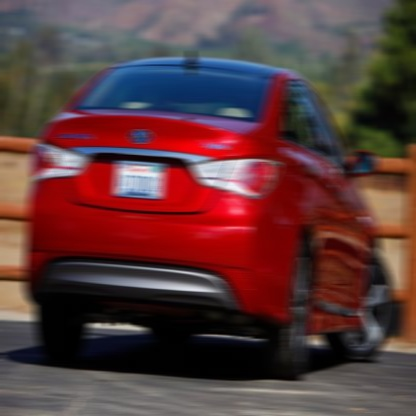Vehicle: (26, 51, 393, 382)
